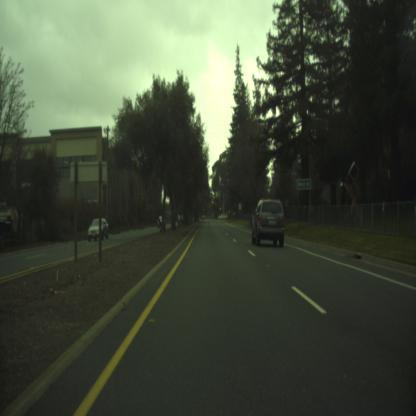Red: (219, 206, 221, 211), (212, 199, 213, 205)
RedLeft: (202, 206, 204, 212)
